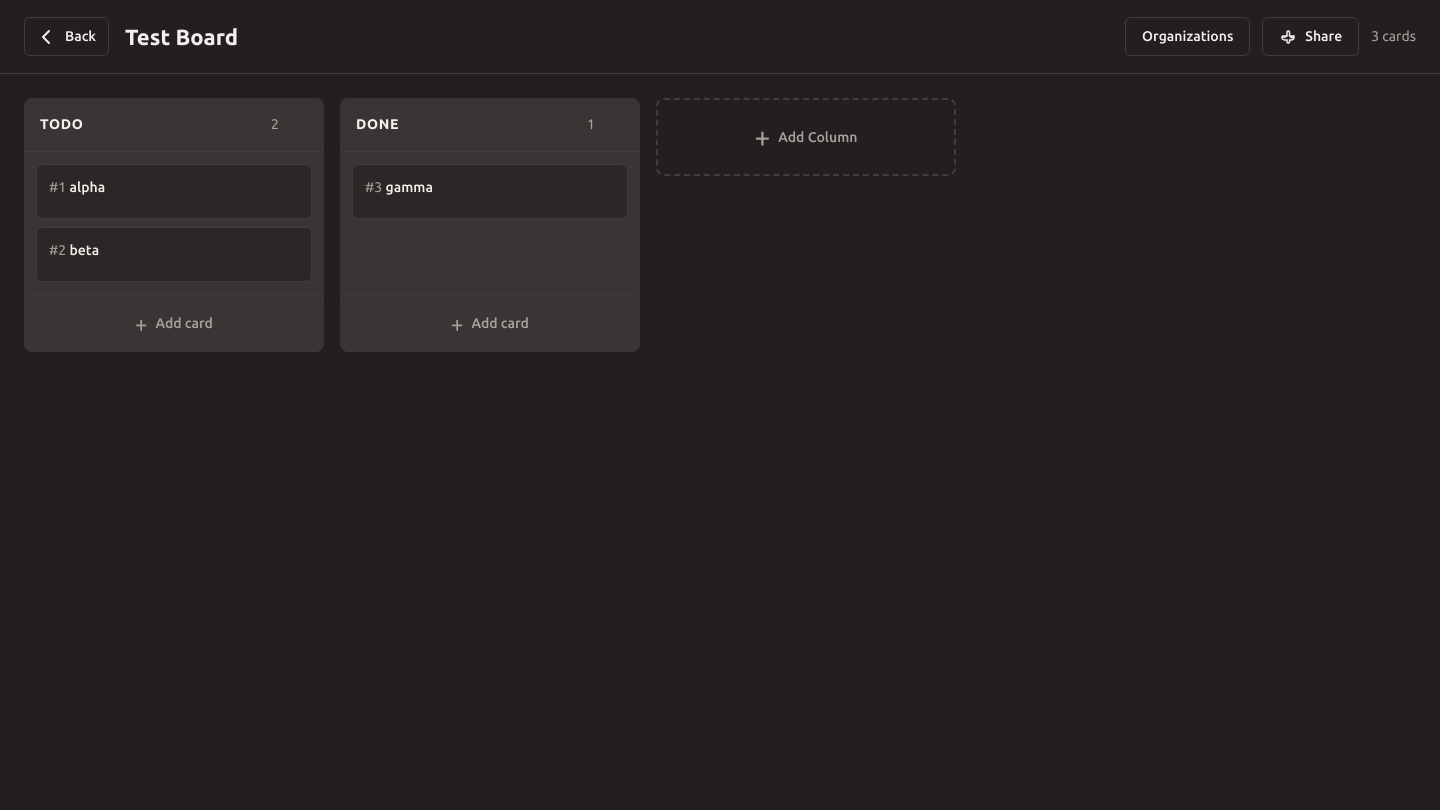
Test: share button › opens the share dialog even with no teams or orgs
Click the button with class "share-btn".
click(1311, 36)  # box x1=1262 y1=17 x2=1359 y2=56
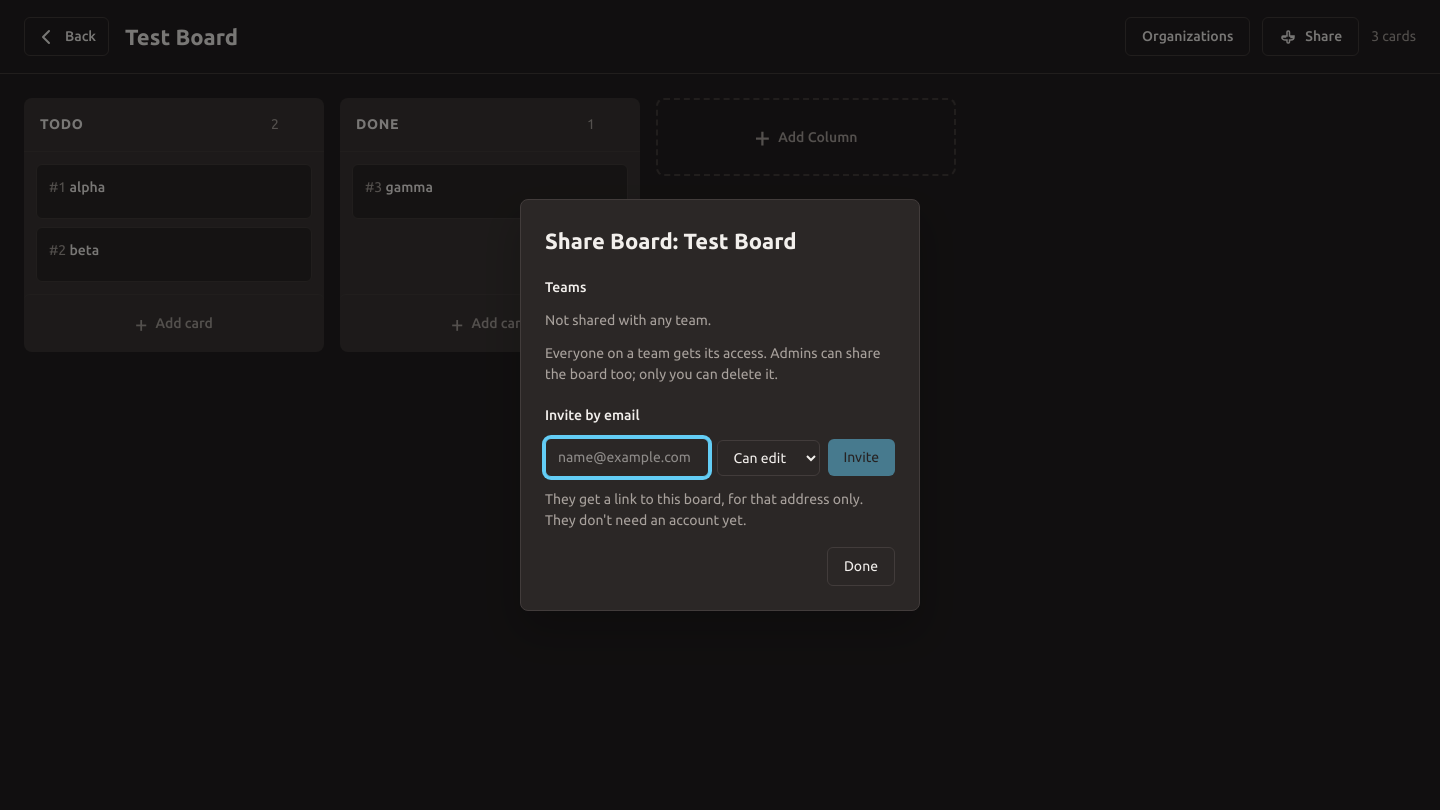
Result: the heading "Invite by email" is shown at x1=545 y1=407 x2=640 y2=423
